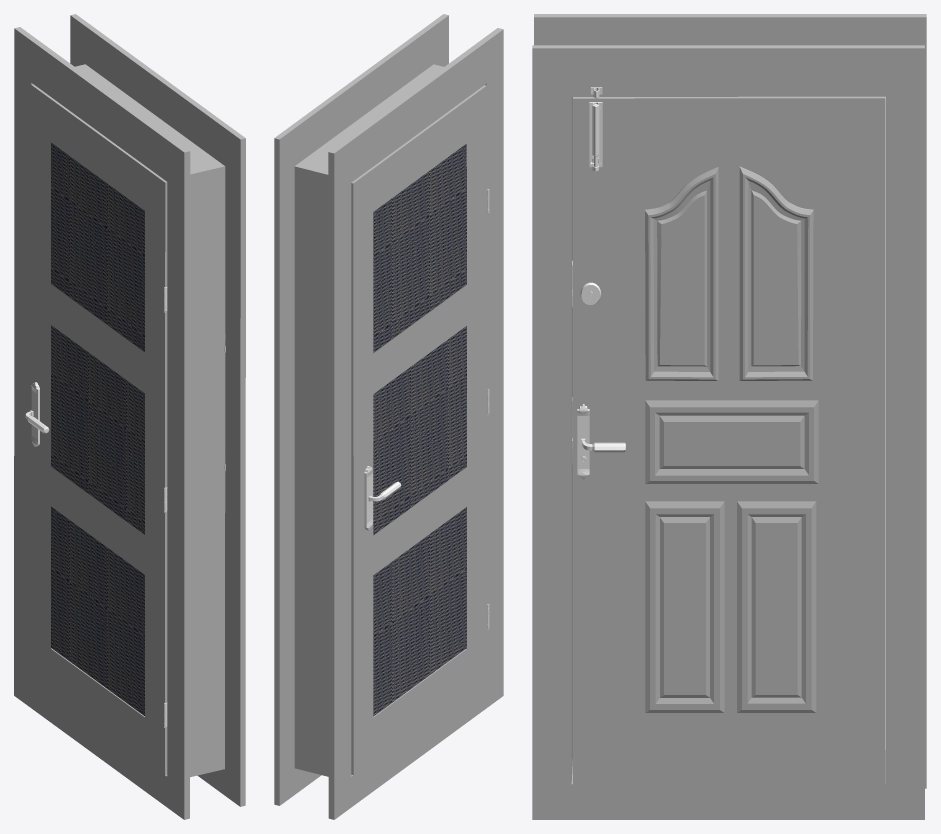
Rendered from single_primo_casa_.fbx.
The picture shows the model from 3 angles, left to right: view 1: azimuth 30°, elevation 25°; view 2: azimuth 150°, elevation 25°; view 3: azimuth 270°, elevation 25°; orthographic projection. The views are drawn at different scales.
Visible parts, largest first — view 1: outer_frame.001, DOOR_GRILL, GLASS, pCylinder16 (1); view 2: outer_frame.001, DOOR_GRILL, GLASS, pCylinder16 (1); view 3: door_FIRST1, outer_frame.001, polySurface11.001, pCube11.002.
Part boxes in pixels (x1,y1,x2,y2): outer_frame.001: (14,14,245,819); DOOR_GRILL: (31,84,167,775); GLASS: (51,142,144,715); pCylinder16 (1): (25,382,49,446); outer_frame.001: (274,14,503,819); DOOR_GRILL: (351,85,486,775); GLASS: (373,144,466,716); pCylinder16 (1): (364,466,401,530); door_FIRST1: (573,96,885,785); outer_frame.001: (532,14,926,819); polySurface11.001: (589,102,602,171); pCube11.002: (577,404,589,479).
Bounding box in the file's own units: 38.22 × 245 × 113.
